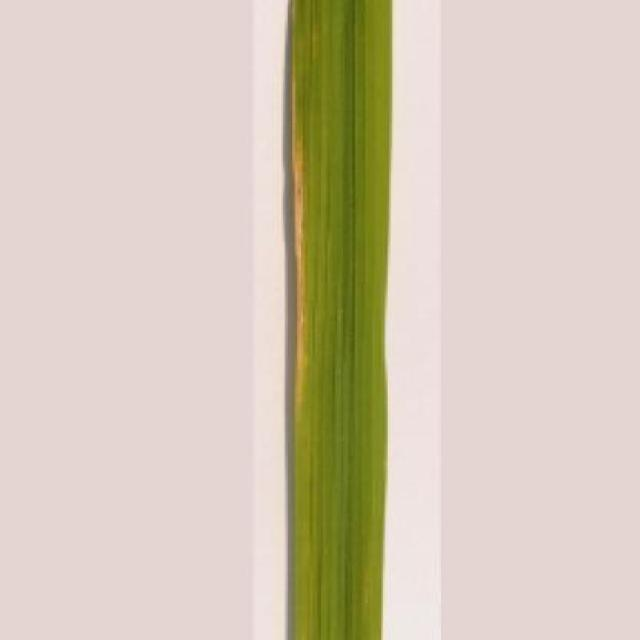Brown_Spot: (278, 0, 396, 640)
